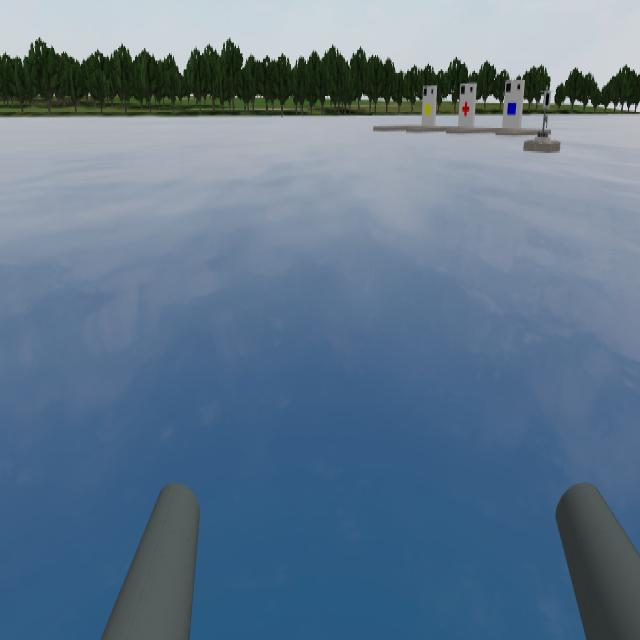black_pole: (536, 84, 558, 114)
